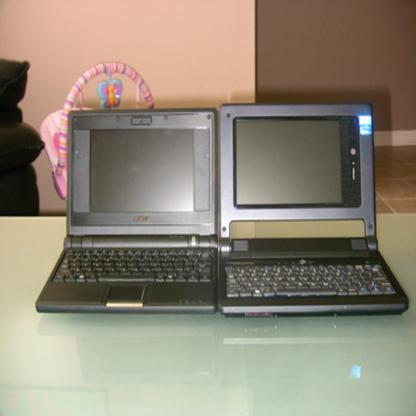board: (216, 101, 408, 318), (34, 102, 218, 312)
